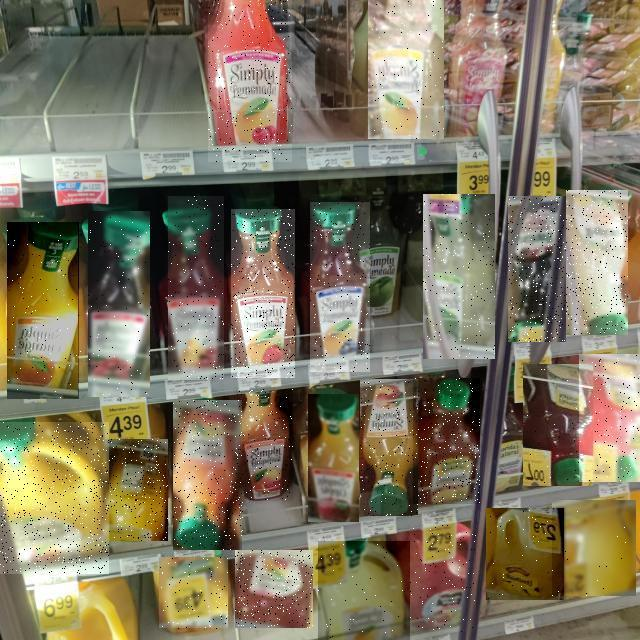Juice: (0, 422, 109, 574), (208, 0, 292, 162), (8, 222, 82, 399), (423, 194, 495, 359), (88, 211, 150, 397), (231, 209, 295, 378), (368, 0, 444, 139), (174, 401, 244, 551), (168, 196, 224, 380), (310, 202, 370, 372), (318, 541, 410, 640), (566, 190, 628, 335), (523, 364, 593, 486), (508, 196, 566, 342), (413, 379, 480, 505), (553, 500, 637, 596), (361, 379, 419, 516), (579, 354, 640, 482), (486, 509, 564, 601), (410, 524, 476, 632), (234, 389, 293, 501), (308, 395, 359, 523), (107, 439, 169, 541), (235, 550, 313, 628), (159, 558, 228, 630)
